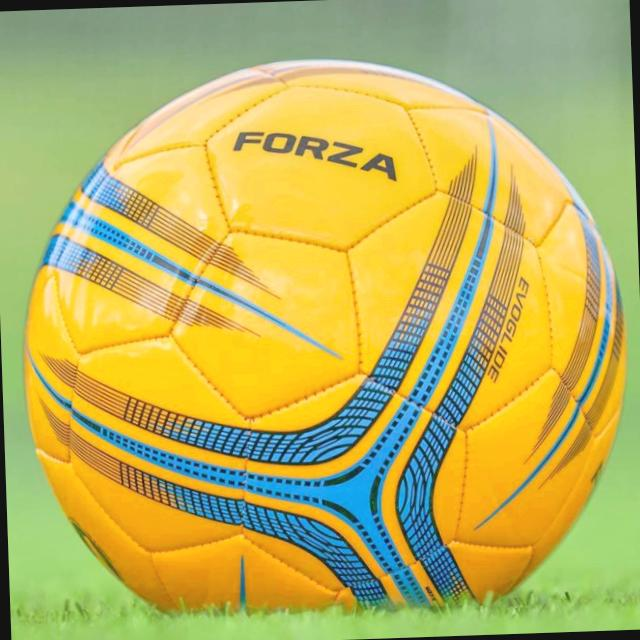ball: (3, 40, 640, 629)
